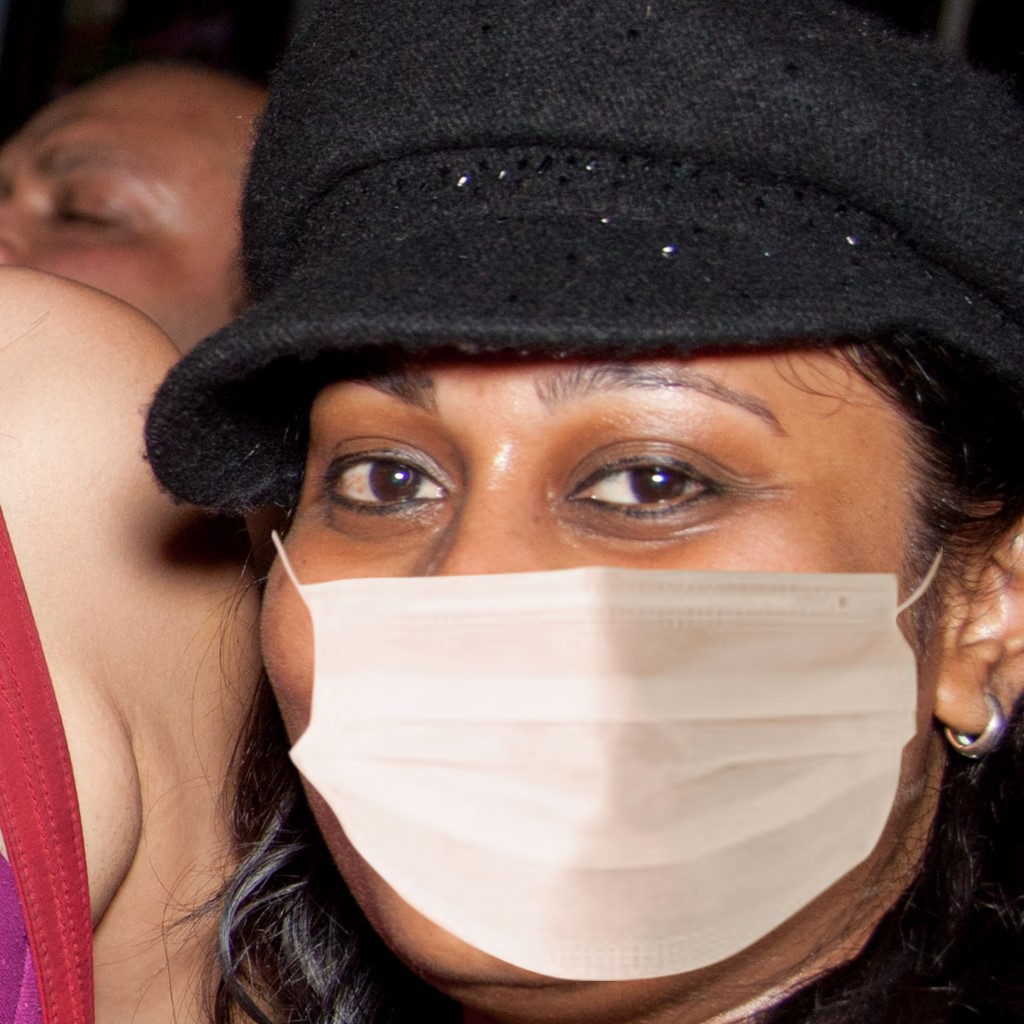con_mascara: (268, 252, 955, 972)
